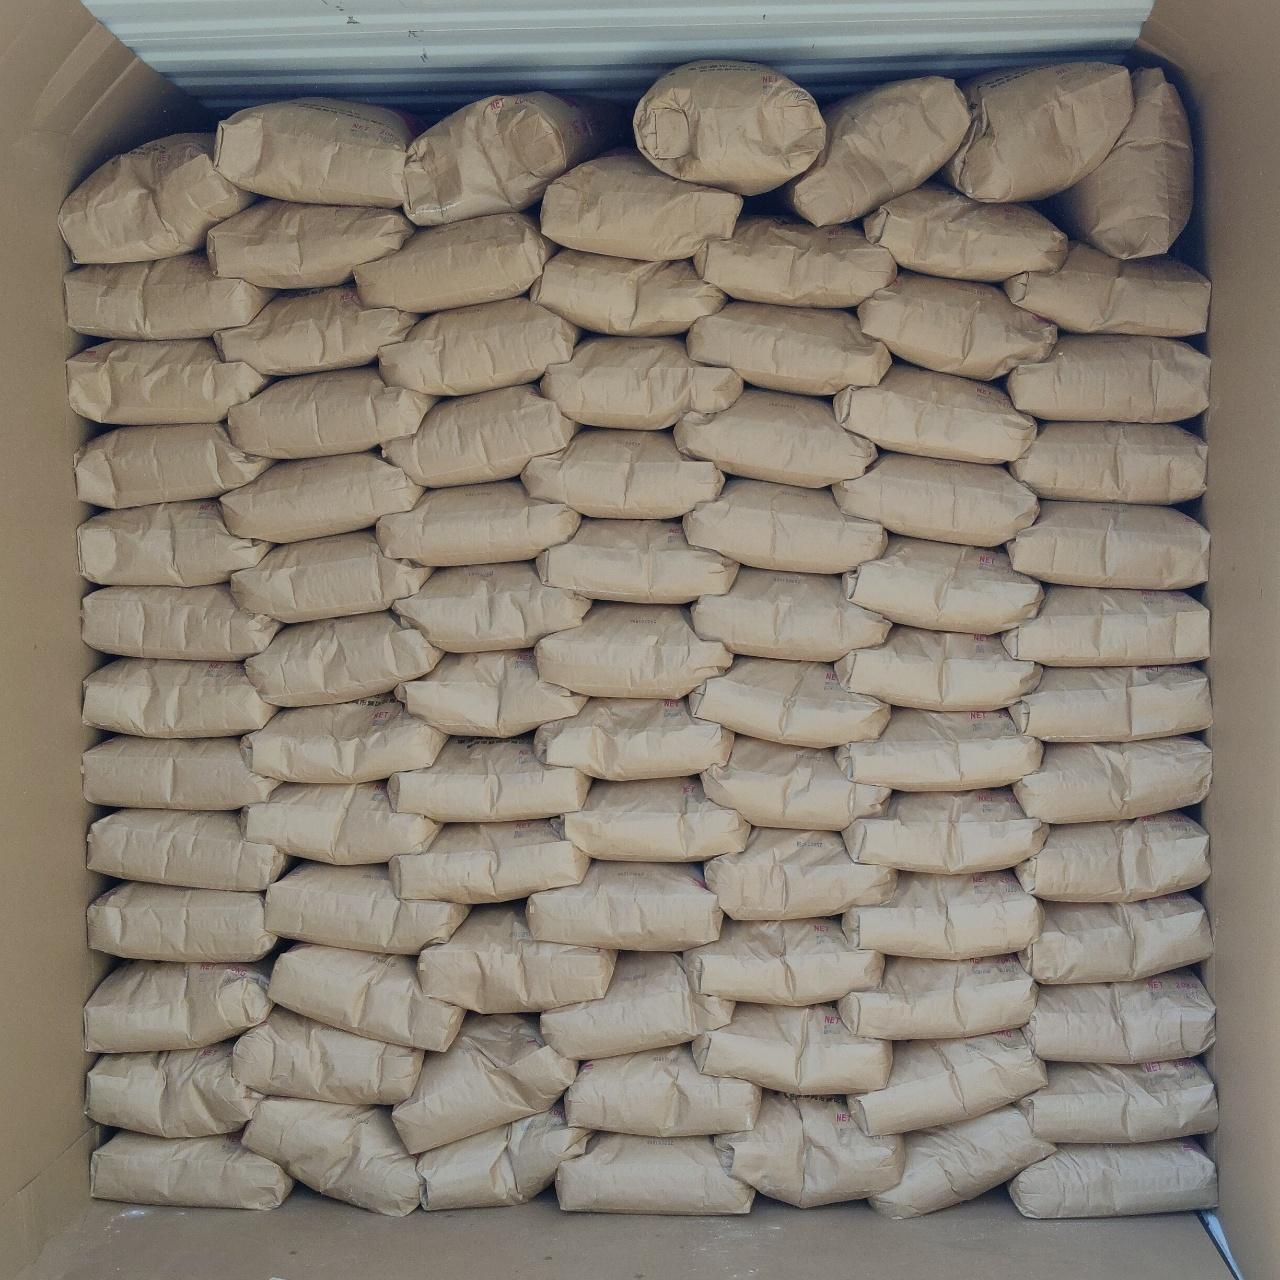sack: (404, 91, 622, 224), (783, 76, 969, 224), (946, 62, 1133, 200), (59, 132, 258, 263), (393, 1014, 578, 1153), (633, 61, 824, 195), (1060, 68, 1192, 258), (542, 149, 742, 261), (715, 1091, 904, 1207), (418, 903, 617, 1013), (858, 271, 1057, 380), (215, 98, 411, 207), (243, 1097, 421, 1216), (849, 1029, 1047, 1135), (870, 1105, 1055, 1217), (542, 952, 734, 1058), (268, 945, 464, 1049), (382, 384, 580, 486), (864, 184, 1070, 281), (674, 388, 876, 486), (835, 365, 1036, 463), (380, 297, 580, 395), (683, 477, 887, 573), (354, 215, 554, 312), (686, 301, 891, 395), (229, 366, 435, 458), (843, 536, 1041, 632), (1005, 244, 1208, 336), (832, 452, 1039, 544), (246, 610, 442, 706), (234, 1006, 424, 1104), (535, 602, 731, 697), (542, 336, 743, 429), (265, 863, 469, 954), (520, 427, 723, 518), (690, 567, 890, 660), (231, 531, 433, 622), (215, 285, 418, 375), (207, 199, 413, 288), (1023, 968, 1214, 1063), (692, 1003, 892, 1094), (694, 217, 897, 306), (222, 452, 423, 542), (1002, 335, 1208, 422), (392, 561, 590, 652), (688, 658, 888, 747), (1006, 501, 1208, 588), (701, 735, 888, 830), (704, 828, 897, 920), (836, 625, 1041, 712), (565, 1046, 761, 1136), (241, 697, 447, 783), (376, 481, 581, 566), (842, 872, 1041, 960), (1016, 812, 1210, 903), (417, 1109, 590, 1210), (64, 256, 275, 338), (685, 918, 881, 1006), (1020, 893, 1211, 983), (527, 862, 723, 949), (84, 961, 272, 1053), (531, 248, 726, 336), (1014, 736, 1211, 823), (843, 790, 1048, 873), (67, 339, 268, 423), (537, 518, 738, 602), (86, 1042, 263, 1138), (389, 737, 590, 822), (75, 423, 274, 508), (1017, 1060, 1217, 1144), (839, 955, 1036, 1040), (389, 819, 588, 903), (835, 710, 1041, 790), (1002, 586, 1208, 666), (87, 809, 286, 891), (79, 501, 270, 586), (241, 782, 440, 864), (556, 1132, 754, 1214), (536, 697, 734, 779), (1010, 422, 1207, 504), (1009, 1141, 1217, 1218), (396, 651, 583, 735), (91, 1131, 293, 1208), (83, 583, 281, 660), (83, 659, 275, 738), (1010, 665, 1211, 741), (564, 777, 749, 859), (88, 883, 275, 962), (83, 735, 280, 810)
